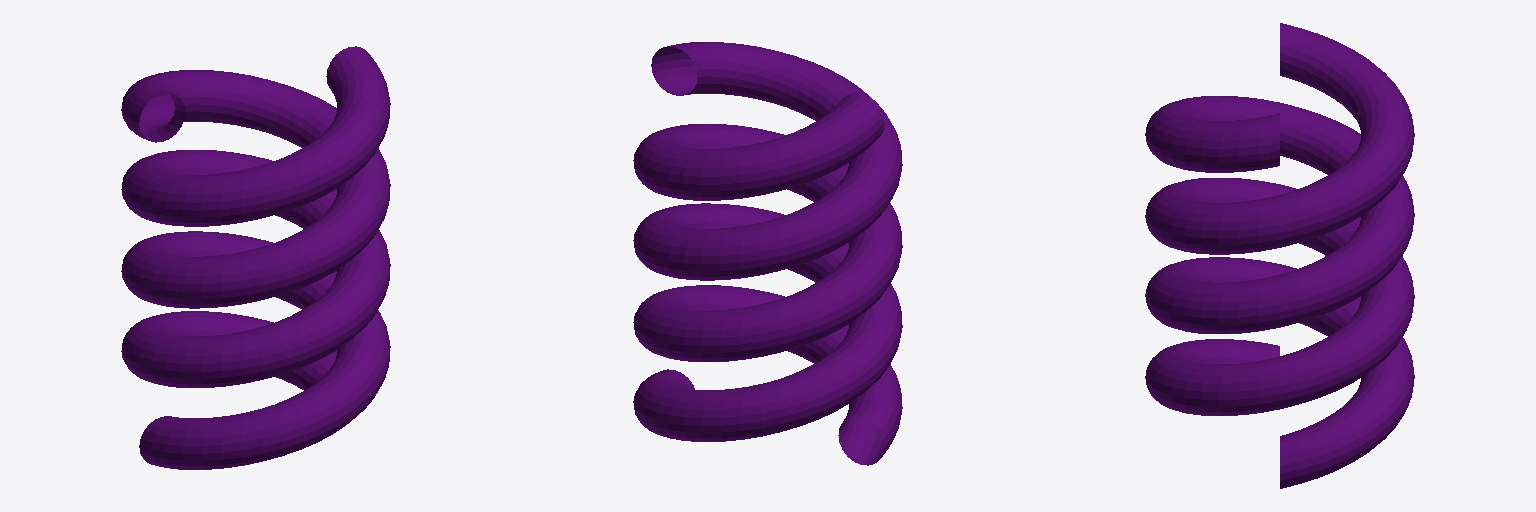
Rendered from helix.obj.
3 views of the same model, side by side, from view 1: azimuth 30°, elevation 25°; view 2: azimuth 150°, elevation 25°; view 3: azimuth 270°, elevation 25° (orthographic).
Bounding box in the file's own units: 60.5 × 92.25 × 60.5.